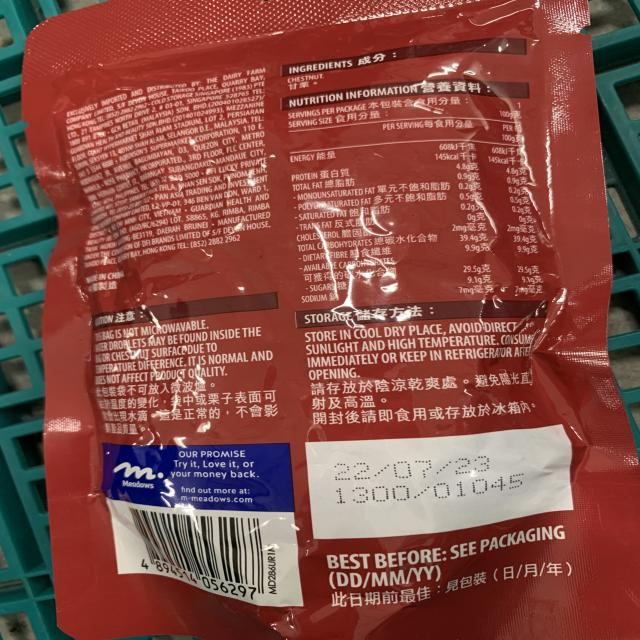object_name: (47, 14, 603, 640)
